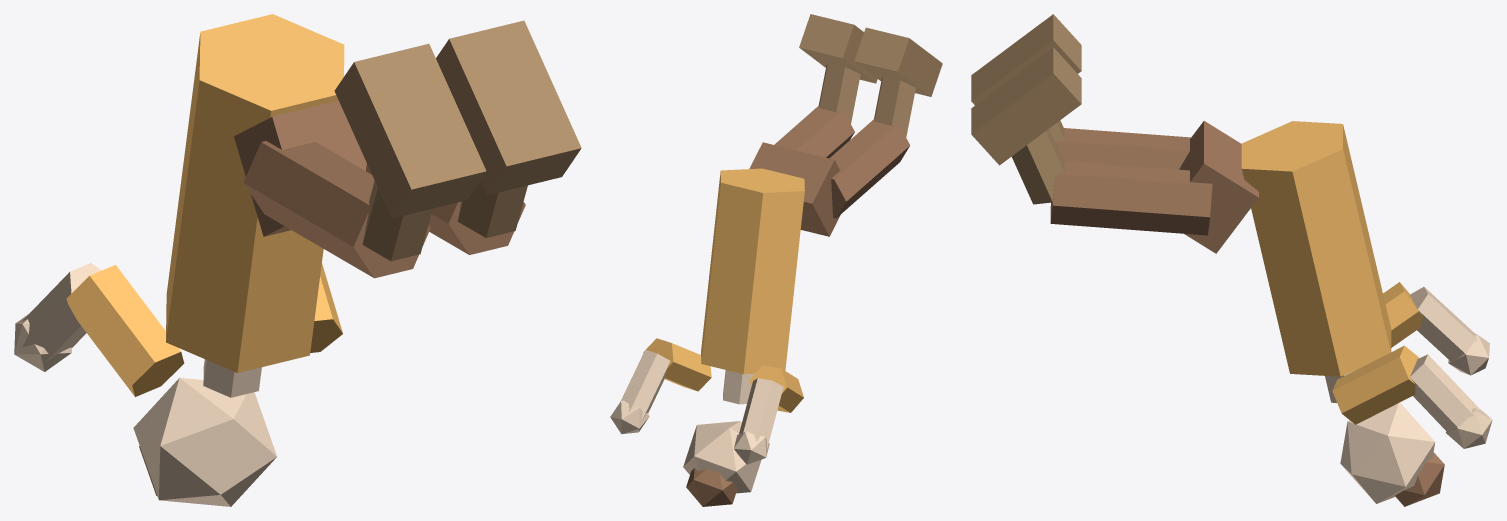
The model's file is pose_dodge_roll_23.glb.
The picture shows the model from 3 angles, left to right: view 1: azimuth 30°, elevation 25°; view 2: azimuth 150°, elevation 25°; view 3: azimuth 270°, elevation 25°; orthographic projection. The views are drawn at different scales.
Visible parts, largest first — view 1: pose; view 2: pose; view 3: pose.
Part boxes in pixels (left/top/right/bottom): pose: left=14, top=14, right=581, bottom=506; pose: left=610, top=14, right=942, bottom=506; pose: left=971, top=14, right=1492, bottom=506.
Bounding box in the file's own units: 0.4876 × 1.14 × 1.18.
